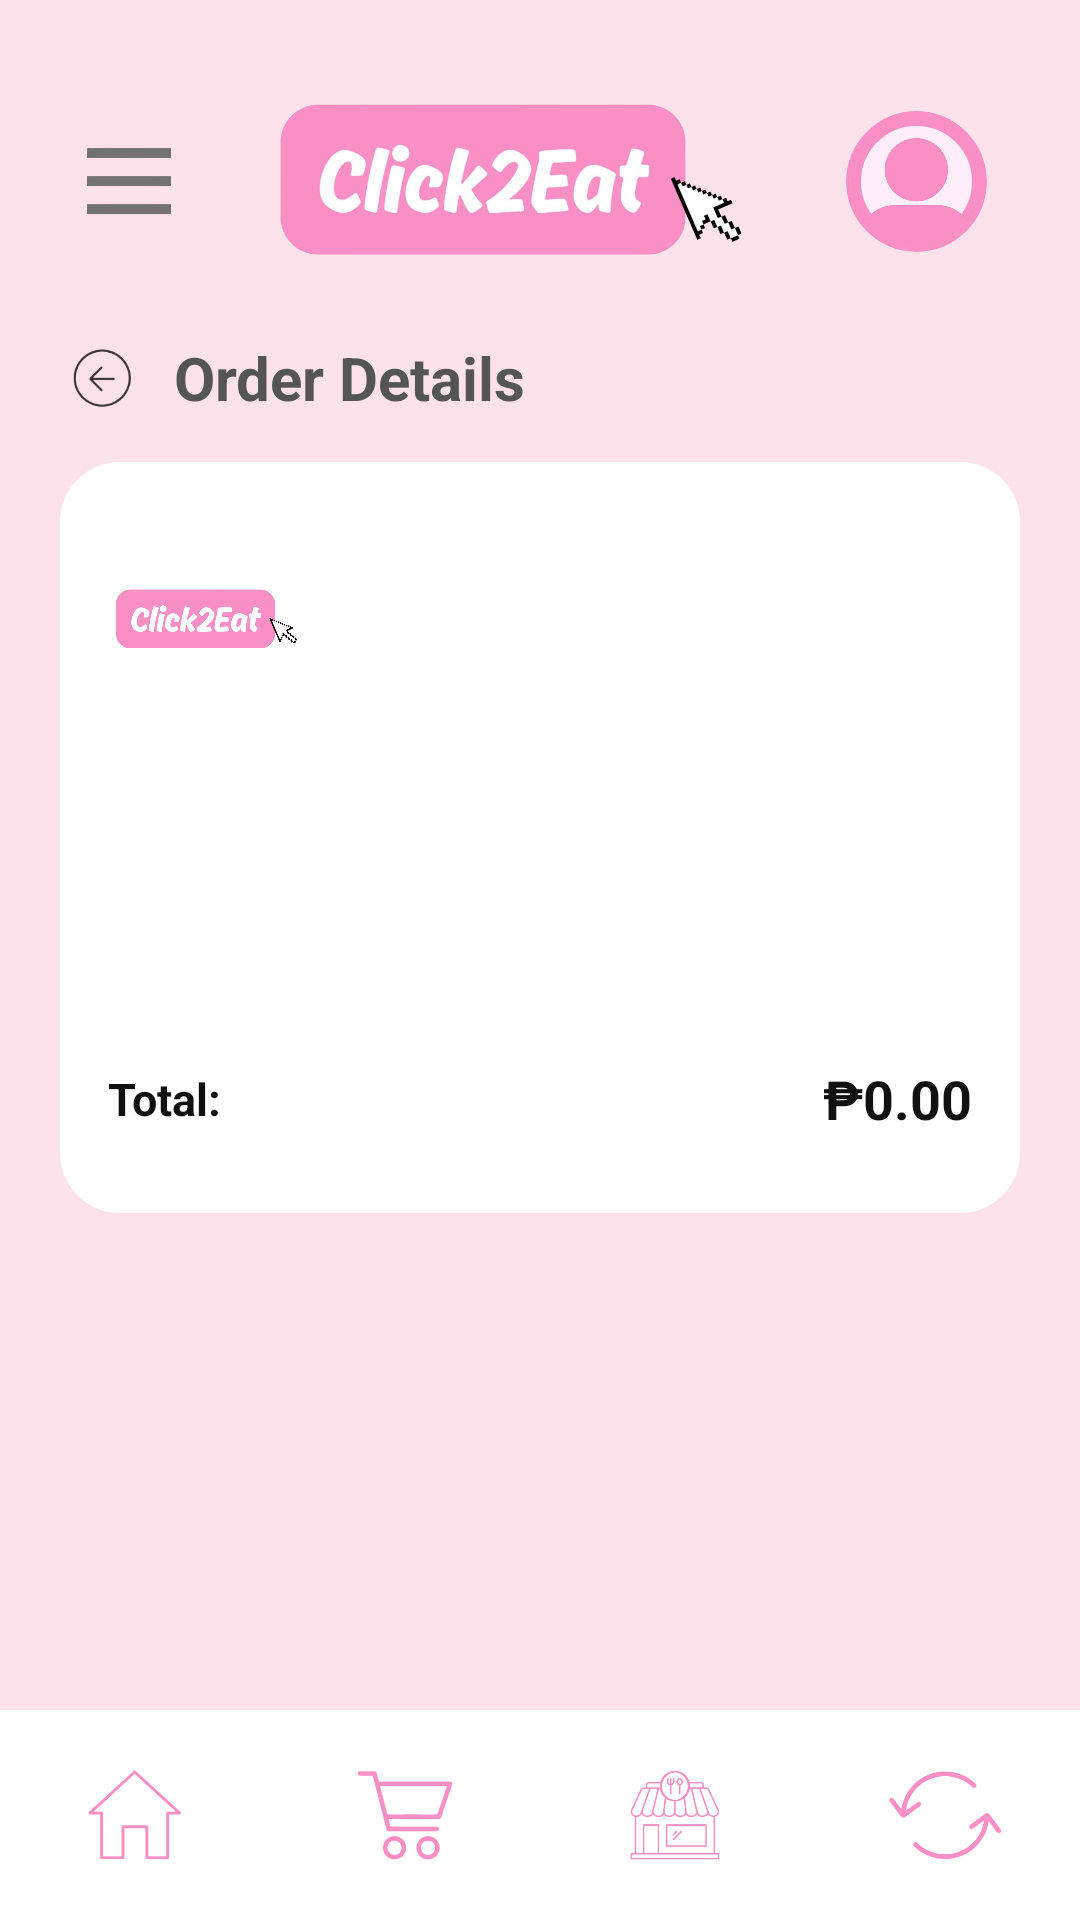

Icons on this 1080 x 1920 Android screen, each with its box as {"x1": x1, "y1": y1, "x2": x2, "y2": y2}:
arrow left: {"x1": 73, "y1": 349, "x2": 131, "y2": 407}
Cart: {"x1": 358, "y1": 1771, "x2": 452, "y2": 1860}
Home: {"x1": 88, "y1": 1770, "x2": 181, "y2": 1859}
Menu: {"x1": 87, "y1": 148, "x2": 171, "y2": 214}
Open profile: {"x1": 846, "y1": 111, "x2": 987, "y2": 252}
Restaurants: {"x1": 630, "y1": 1771, "x2": 719, "y2": 1860}
